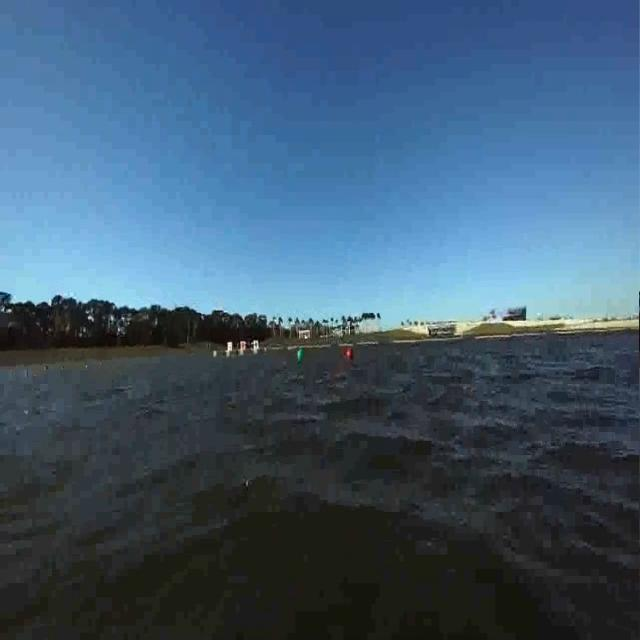green-buoy: (297, 349, 303, 362)
red-buoy: (347, 348, 353, 358)
